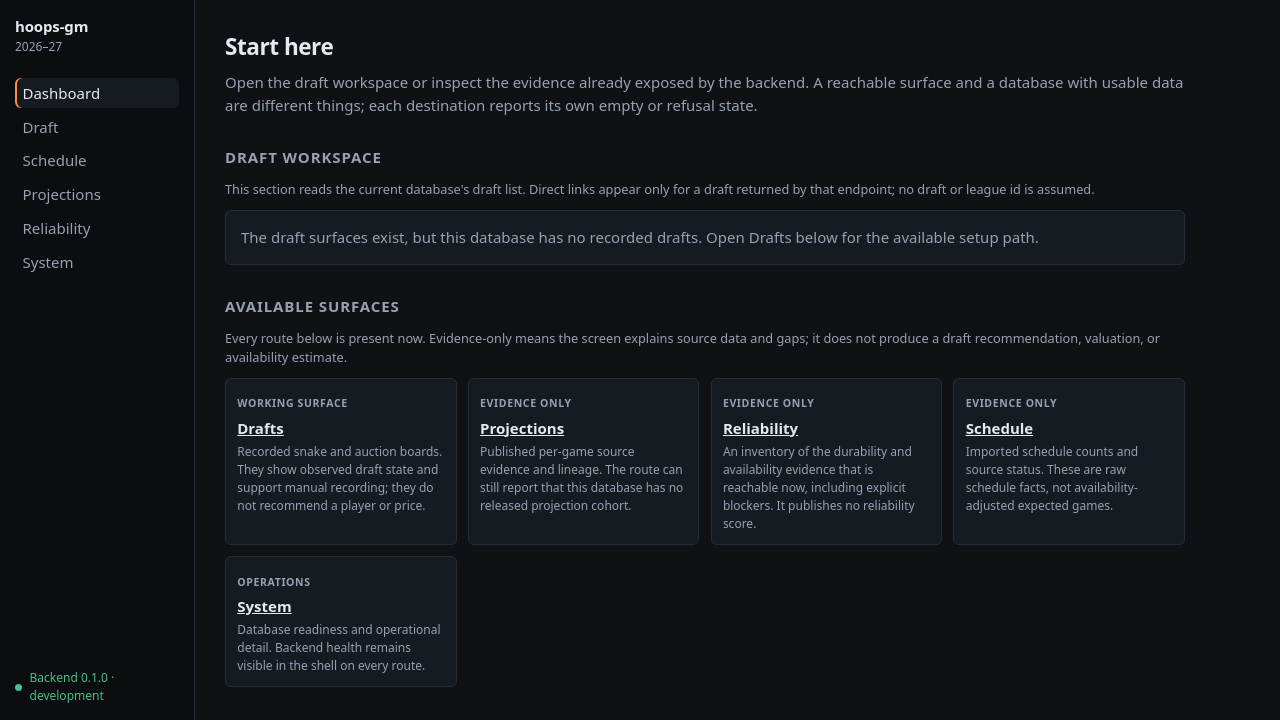
Test: the dashboard shell › navigates to the reliability page from the shell
Click the link "Reliability" below "Dashboard" at x=56, y=228, box x1=22 y1=218 x2=90 y2=238
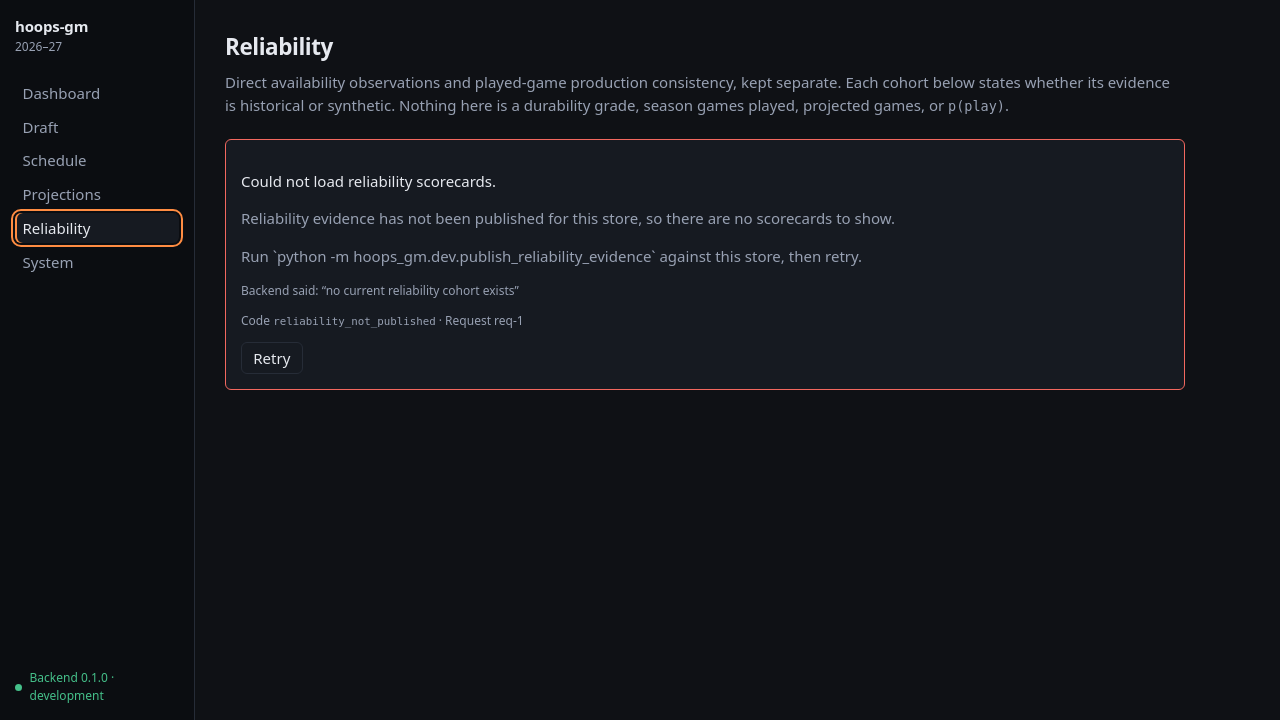
Expected: the heading "Reliability" is shown, x1=225 y1=31 x2=333 y2=62
Expected: the message that starts with "Could not load" shows "Reliability evidence has not been published for this store", x1=241 y1=208 x2=895 y2=228
Expected: the message that starts with "Could not load" shows "Code reliability_not_published", x1=225 y1=139 x2=1185 y2=390
